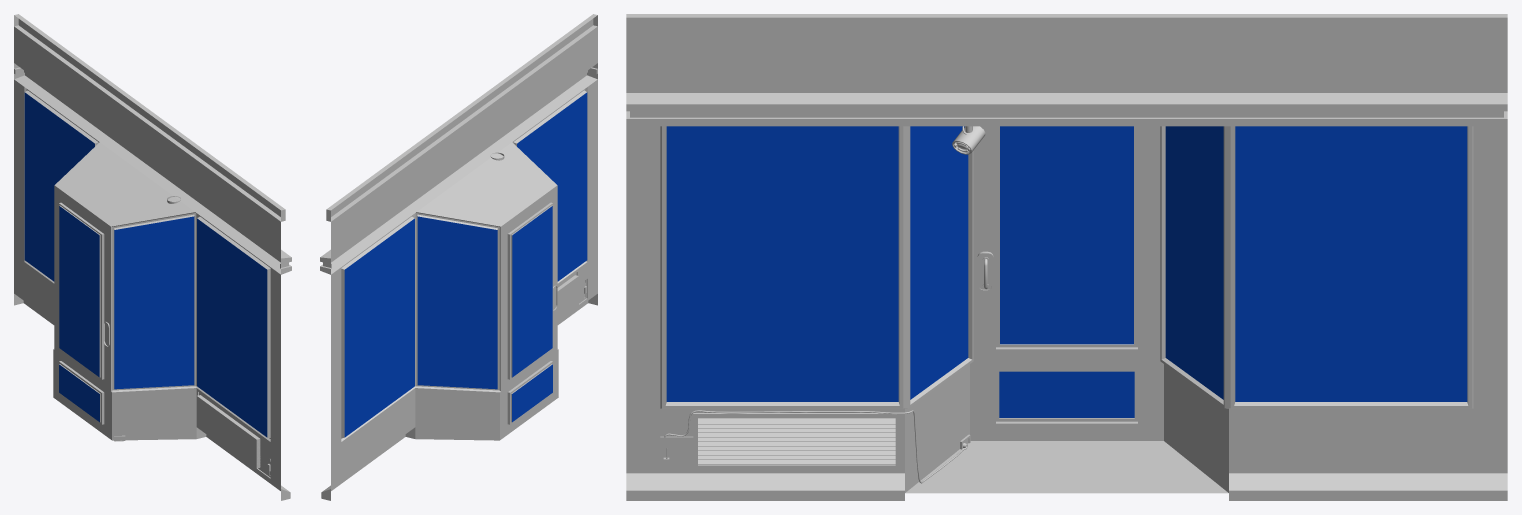
File: Showcase_2.2.fbx
3 views of the same model, side by side, from view 1: azimuth 30°, elevation 25°; view 2: azimuth 150°, elevation 25°; view 3: azimuth 270°, elevation 25° (orthographic). The views are drawn at different scales.
Visible parts, largest first — view 1: Showcase_2.2; view 2: Showcase_2.2; view 3: Showcase_2.2.
Boxes of the visible parts, box(x1,y1,x2,y2) form: Showcase_2.2: box(14, 14, 291, 500); Showcase_2.2: box(320, 14, 597, 500); Showcase_2.2: box(626, 14, 1507, 500).
Bounding box in the file's own units: 0.8529 × 3.01 × 5.
